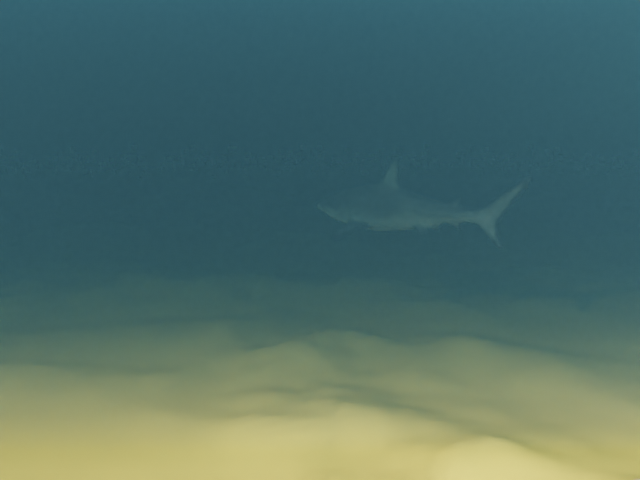Carribean Shark.001: (316, 158, 531, 249)
